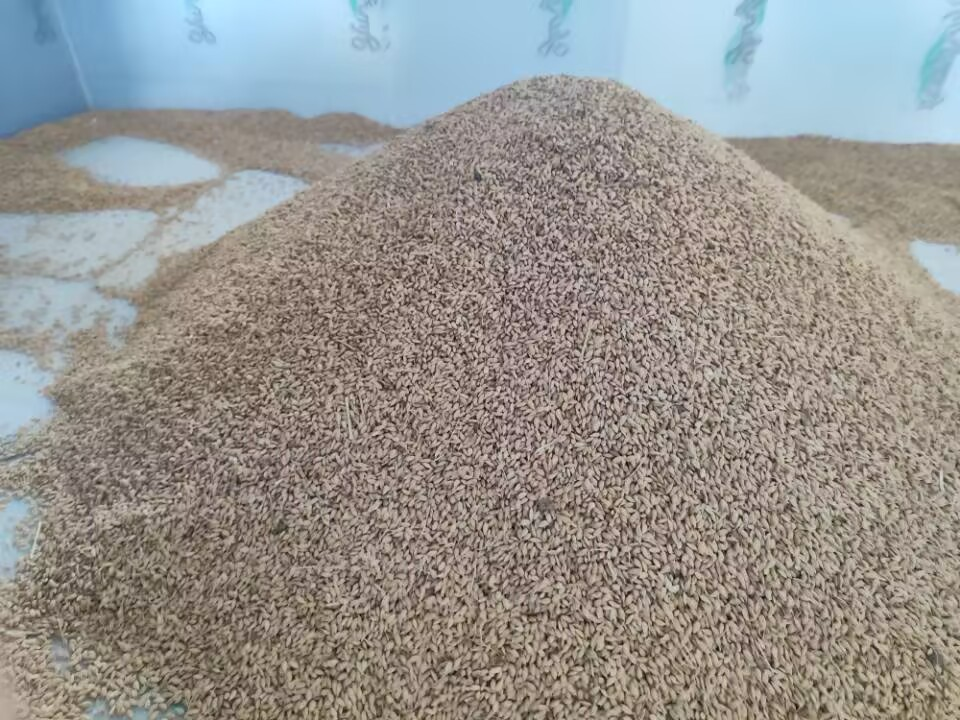Grain: (259, 72, 892, 565)
